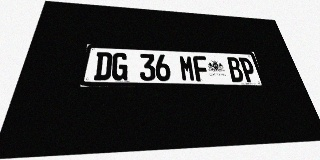3: (140, 54, 155, 81)
6: (155, 54, 171, 81)
B: (226, 57, 245, 82)
D: (93, 52, 113, 80)
F: (192, 56, 210, 82)
G: (111, 53, 128, 81)
M: (179, 55, 196, 81)
P: (238, 57, 258, 82)
